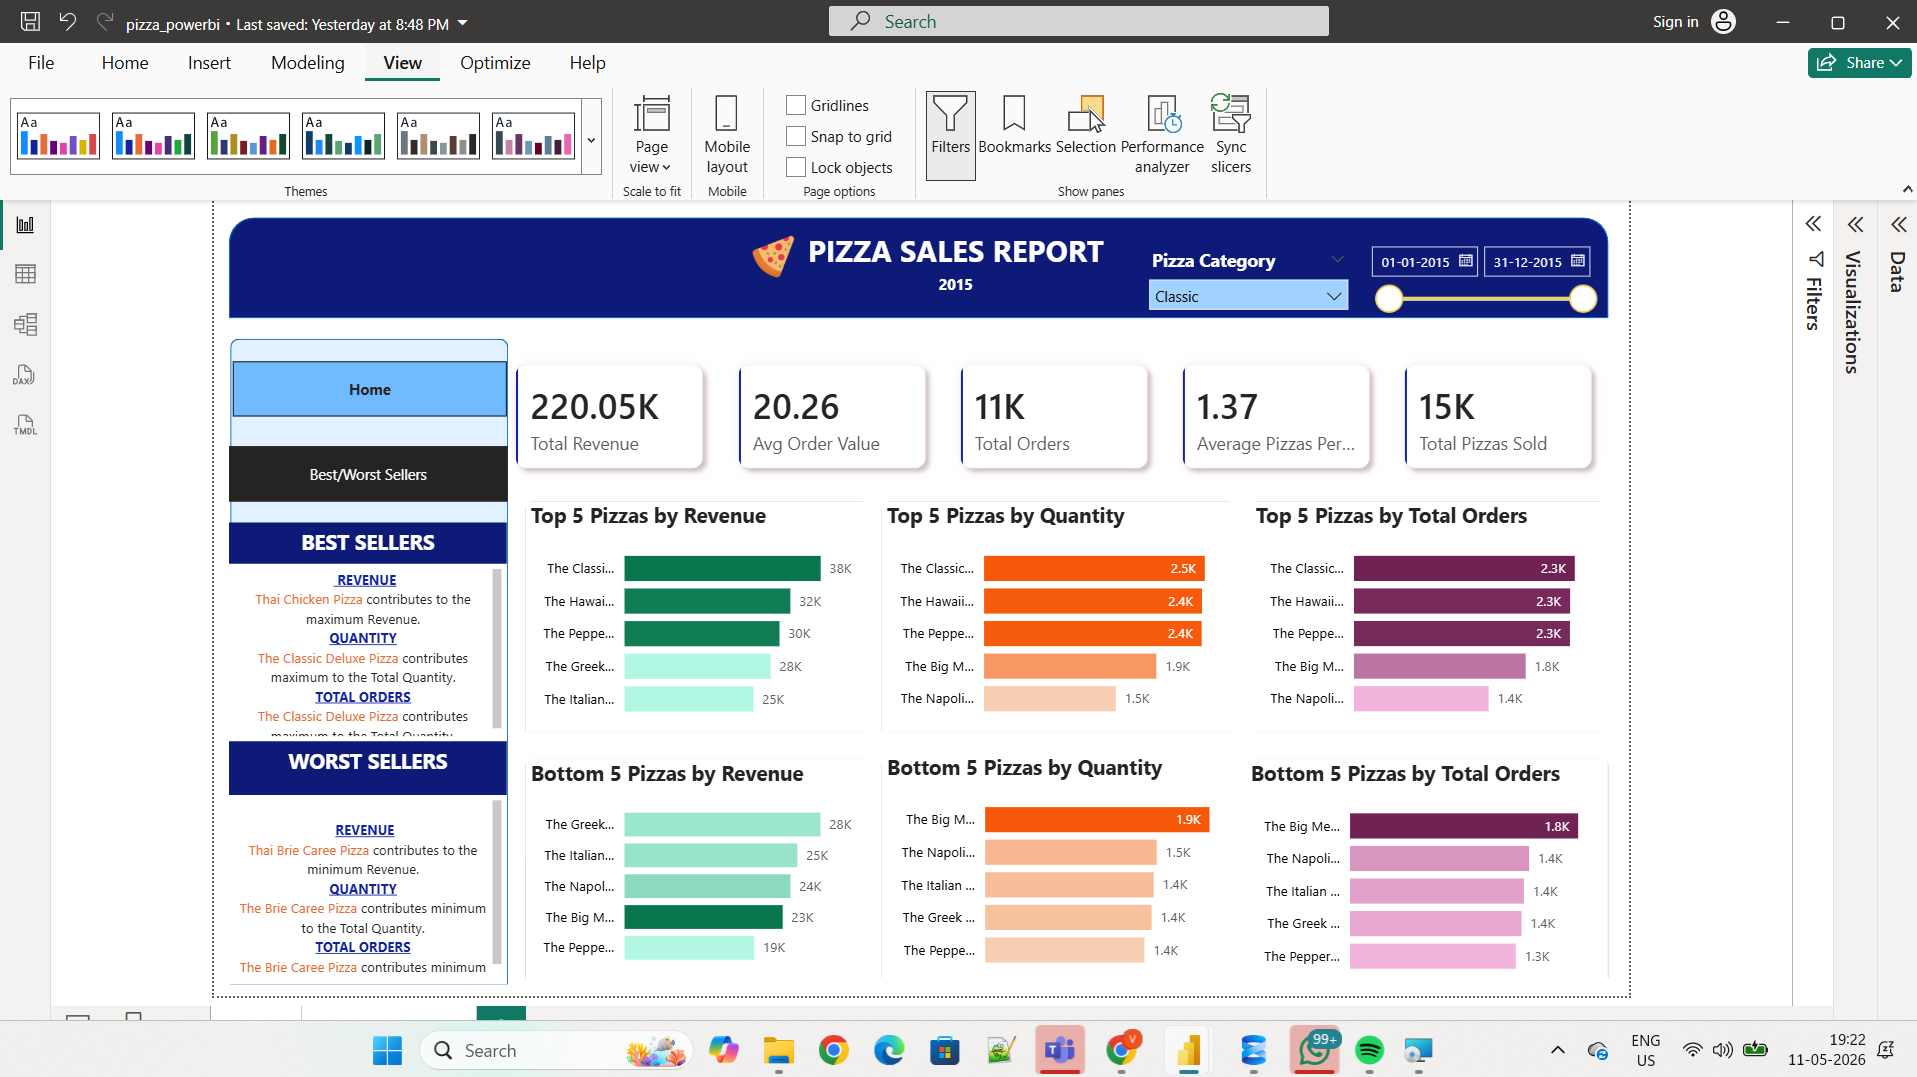

The dashboard page shown, as its layout file describes it:
{"tool":"powerbi","page":{"name":"Best/Worst Sellers","canvas":[1280,720],"ordinal":1},"visuals":[{"type":"cardVisual","fields":{"Data":["pizza_sales.Total Revenue","pizza_sales.Avg Order Value","pizza_sales.Total Orders","pizza_sales.Average Pizzas Per Order","pizza_sales.Total Pizzas Sold"]},"box":[244.6,119.6,1035.6,152.2],"z":0},{"type":"shape","box":[13.6,16.3,1247.7,91.1],"z":1000},{"type":"textbox","box":[418.6,23.1,505.6,47.6],"z":2000},{"type":"image","box":[470.3,31.3,70.7,39.4],"z":3000},{"type":"textbox","box":[557.2,62.5,227,38.1],"z":4000},{"type":"shape","box":[282,272,310,208],"z":5000},{"type":"shape","box":[604,272,320,208],"z":6000},{"type":"shape","box":[281.3,505.6,309.9,198.4],"z":7000},{"type":"shape","box":[603.4,505.6,320.7,198.4],"z":8000},{"type":"shape","box":[933.7,505.6,327.5,198.4],"z":9000},{"type":"shape","box":[14.3,125.7,251.4,584.3],"z":10000},{"type":"textbox","box":[13.8,291.2,251.2,37.5],"z":11000},{"type":"textbox","box":[13.8,328.8,251.2,161.2],"z":12000},{"type":"textbox","box":[13.8,490,251.2,48.8],"z":13000},{"type":"textbox","box":[13.8,538.8,251.2,171.2],"z":14000},{"type":"slicer","fields":{"Values":["pizza_sales.pizza_category"]},"box":[835,38.3,200,106.7],"z":15000},{"type":"slicer","fields":{"Values":["pizza_sales.order_date"]},"box":[1035,31.7,225,106.7],"z":16000},{"type":"shape","box":[938,272,320,208],"z":17000},{"type":"barChart","title":"Top 5 Pizzas by Revenue","fields":{"Category":["pizza_sales.pizza_name"],"Y":["pizza_sales.Total Revenue"]},"box":[282,272,310,208],"z":18000},{"type":"barChart","title":"Bottom 5 Pizzas by Revenue","fields":{"Category":["pizza_sales.pizza_name"],"Y":["pizza_sales.Total Revenue"]},"box":[281.1,505.6,310,198.9],"z":19000},{"type":"barChart","title":"Top 5 Pizzas by Quantity","fields":{"Category":["pizza_sales.pizza_name"],"Y":["pizza_sales.Total Pizzas Sold"]},"box":[603.3,272.2,321.1,207.8],"z":20000},{"type":"barChart","title":"Bottom 5 Pizzas by Quantity","fields":{"Category":["pizza_sales.pizza_name"],"Y":["pizza_sales.Total Pizzas Sold"]},"box":[603.3,500,322.2,207.8],"z":21000},{"type":"barChart","title":"Top 5 Pizzas by Total Orders","fields":{"Category":["pizza_sales.pizza_name"],"Y":["pizza_sales.Total Orders"]},"box":[937.8,272.2,323.3,207.8],"z":22000},{"type":"barChart","title":"Bottom 5 Pizzas by Total Orders","fields":{"Category":["pizza_sales.pizza_name"],"Y":["pizza_sales.Total Orders"]},"box":[933.3,505.6,327.8,207.8],"z":22001},{"type":"pageNavigator","box":[13.3,222.2,252.2,50],"z":22002},{"type":"pageNavigator","box":[16.7,145.6,248.9,50],"z":22003}]}

Visuals, with their boxes on the page's 1280x720 design canvas (x1, y1, x2, y2). These are canvas units, not pixel positions in the 1917x1077 screenshot, which may show the page scaled, cropped or inside an application window:
cardVisual - pizza_sales.Total Revenue x pizza_sales.Avg Order Value: <bbox>245, 120, 1280, 272</bbox>
shape: <bbox>14, 16, 1261, 107</bbox>
textbox: <bbox>419, 23, 924, 71</bbox>
image: <bbox>470, 31, 541, 71</bbox>
textbox: <bbox>557, 62, 784, 101</bbox>
shape: <bbox>282, 272, 592, 480</bbox>
shape: <bbox>604, 272, 924, 480</bbox>
shape: <bbox>281, 506, 591, 704</bbox>
shape: <bbox>603, 506, 924, 704</bbox>
shape: <bbox>934, 506, 1261, 704</bbox>
shape: <bbox>14, 126, 266, 710</bbox>
textbox: <bbox>14, 291, 265, 329</bbox>
textbox: <bbox>14, 329, 265, 490</bbox>
textbox: <bbox>14, 490, 265, 539</bbox>
textbox: <bbox>14, 539, 265, 710</bbox>
slicer - pizza_sales.pizza_category: <bbox>835, 38, 1035, 145</bbox>
slicer - pizza_sales.order_date: <bbox>1035, 32, 1260, 138</bbox>
shape: <bbox>938, 272, 1258, 480</bbox>
"Top 5 Pizzas by Revenue" barChart: <bbox>282, 272, 592, 480</bbox>
"Bottom 5 Pizzas by Revenue" barChart: <bbox>281, 506, 591, 704</bbox>
"Top 5 Pizzas by Quantity" barChart: <bbox>603, 272, 924, 480</bbox>
"Bottom 5 Pizzas by Quantity" barChart: <bbox>603, 500, 926, 708</bbox>
"Top 5 Pizzas by Total Orders" barChart: <bbox>938, 272, 1261, 480</bbox>
"Bottom 5 Pizzas by Total Orders" barChart: <bbox>933, 506, 1261, 713</bbox>
pageNavigator: <bbox>13, 222, 266, 272</bbox>
pageNavigator: <bbox>17, 146, 266, 196</bbox>
